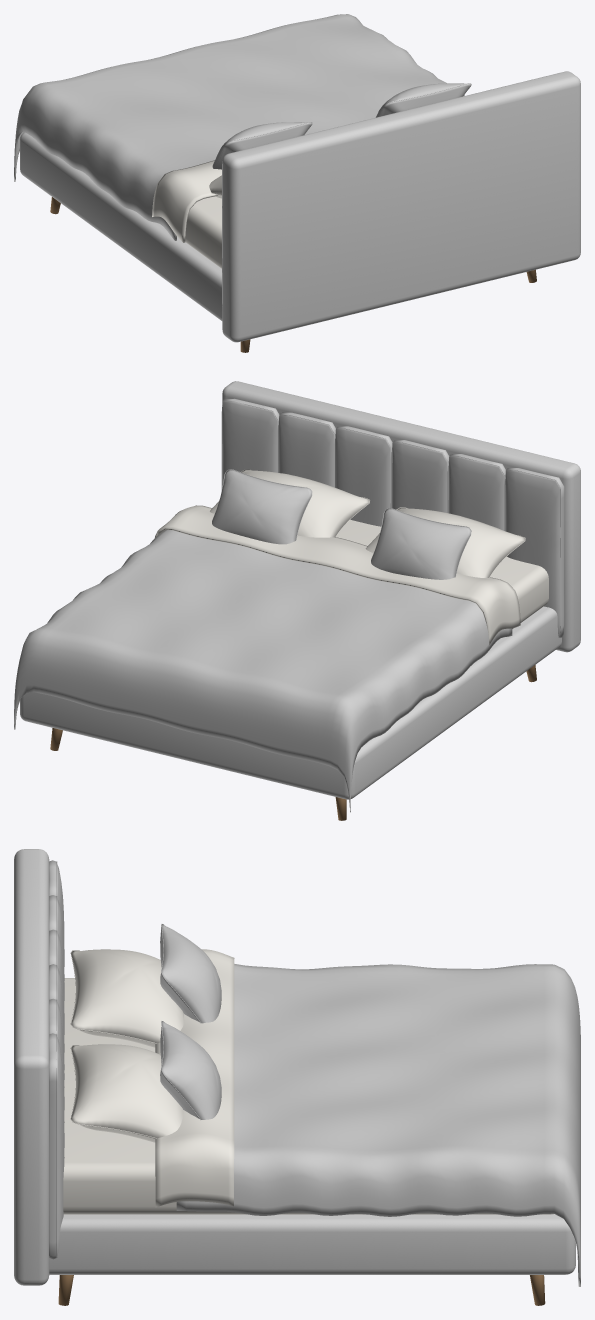
Rendered from bed-upholstered.glb.
The picture shows the model from 3 angles, top to bottom: view 1: azimuth 30°, elevation 25°; view 2: azimuth 150°, elevation 25°; view 3: azimuth 270°, elevation 25°; orthographic projection. The views are drawn at different scales.
Parts seen in each view (by area): view 1: Houseit bed-upholstered; view 2: Houseit bed-upholstered; view 3: Houseit bed-upholstered.
Part boxes in pixels (<box>): Houseit bed-upholstered: <box>14,14,580,352</box>; Houseit bed-upholstered: <box>14,381,580,820</box>; Houseit bed-upholstered: <box>14,849,580,1305</box>.
Size of the model in its own units: 1.94 by 1.12 by 2.17.
3 materials, 1 textured.
